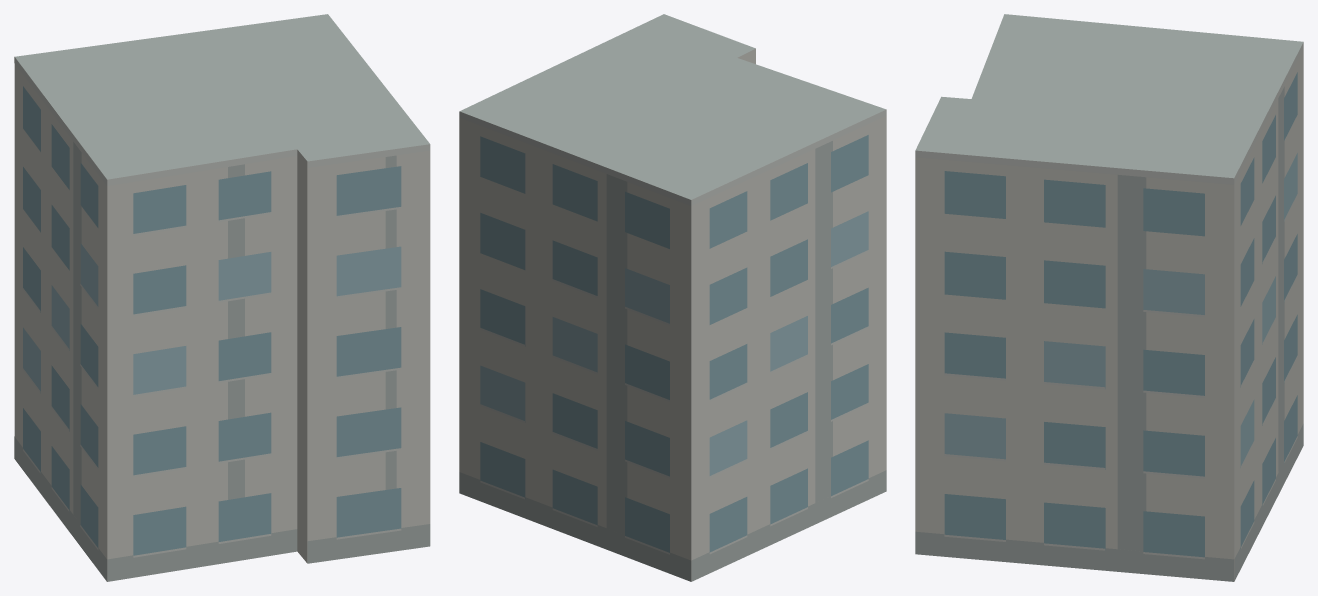
The model's file is survey-upis-32778861.glb.
3 renders of one model, left to right at view 1: azimuth 30°, elevation 25°; view 2: azimuth 150°, elevation 25°; view 3: azimuth 270°, elevation 25°, orthographic. The views are drawn at different scales.
Parts seen in each view (by area): view 1: survey-upis-32778861.tmp; view 2: survey-upis-32778861.tmp; view 3: survey-upis-32778861.tmp.
Part boxes in pixels (x1,y1,x2,y2): survey-upis-32778861.tmp: (14, 14, 430, 581); survey-upis-32778861.tmp: (459, 14, 886, 581); survey-upis-32778861.tmp: (915, 14, 1303, 581).
Size of the model in its own units: 12.92 by 14.8 by 12.92.
